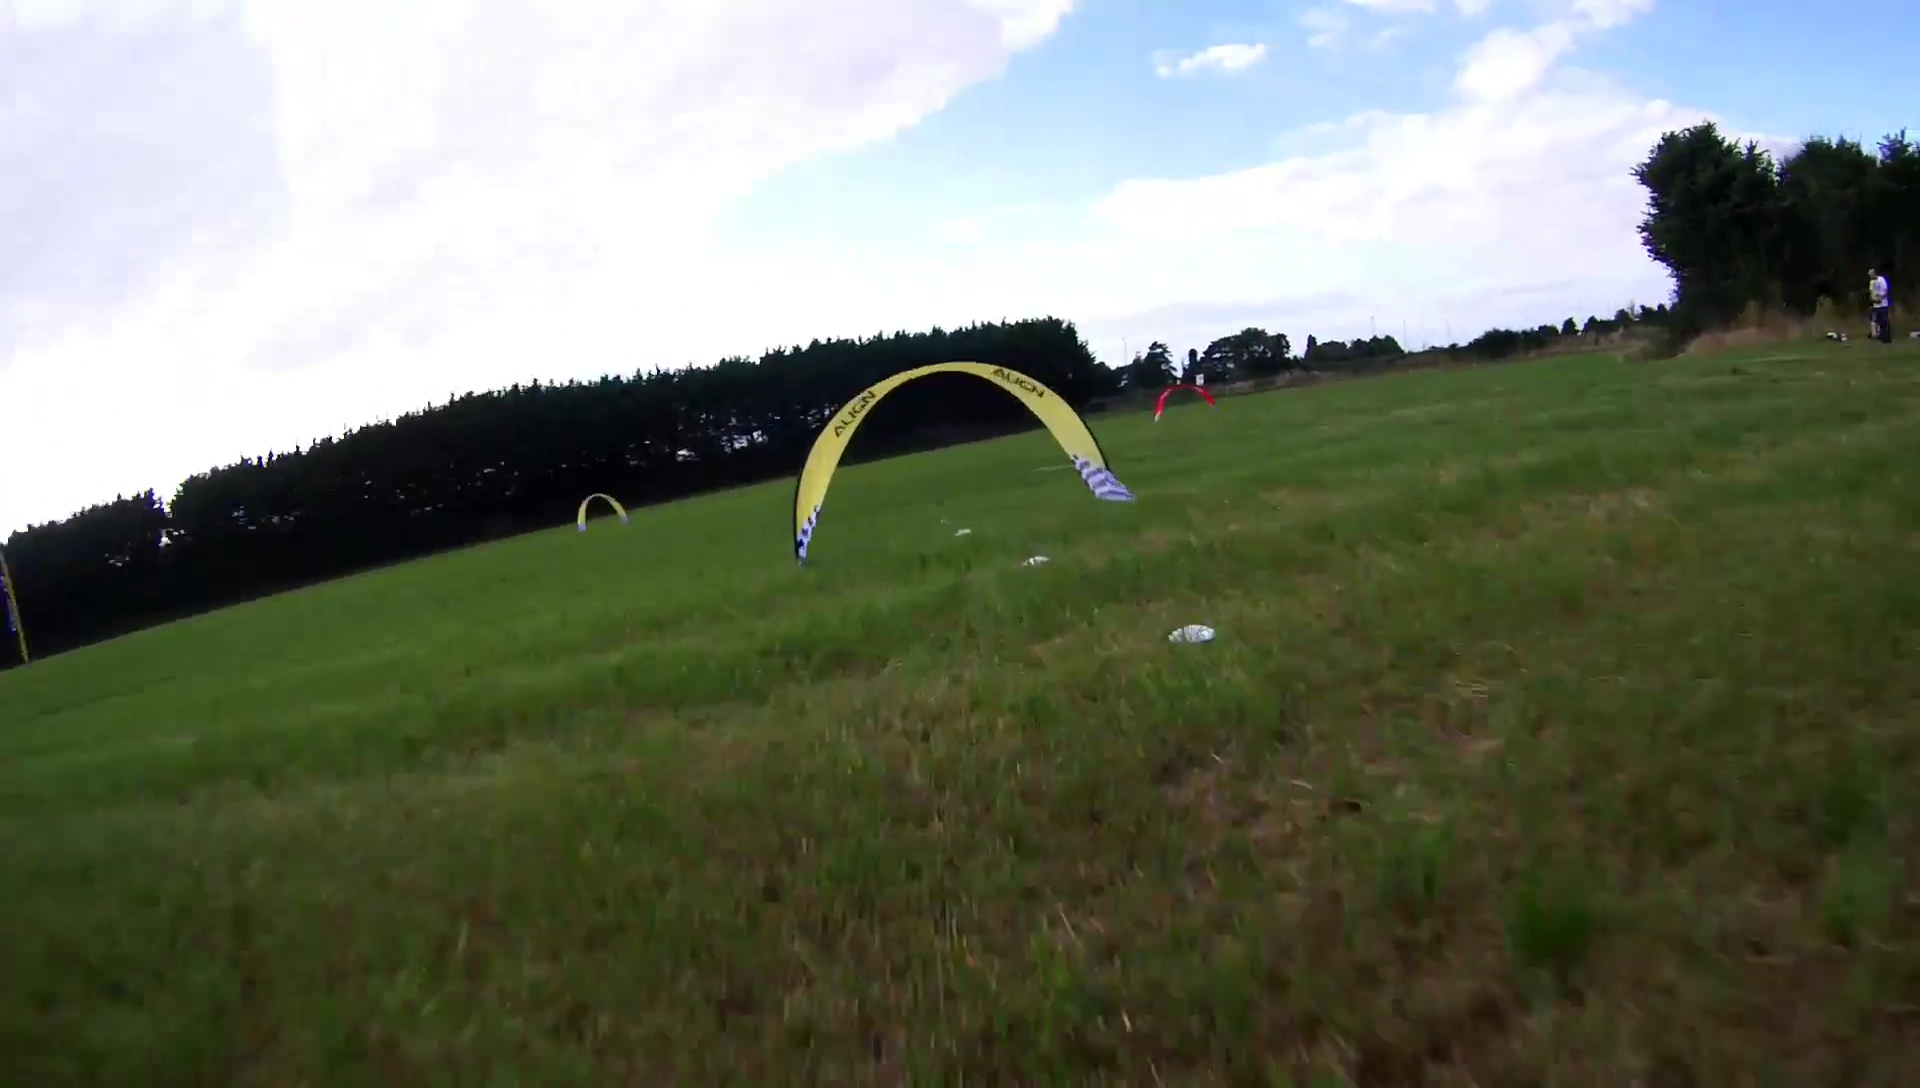gate: (789, 357, 1131, 566), (1151, 382, 1218, 425), (575, 491, 626, 534)
